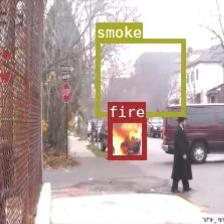fire: (107, 118, 145, 159)
smoke: (95, 38, 185, 116)
